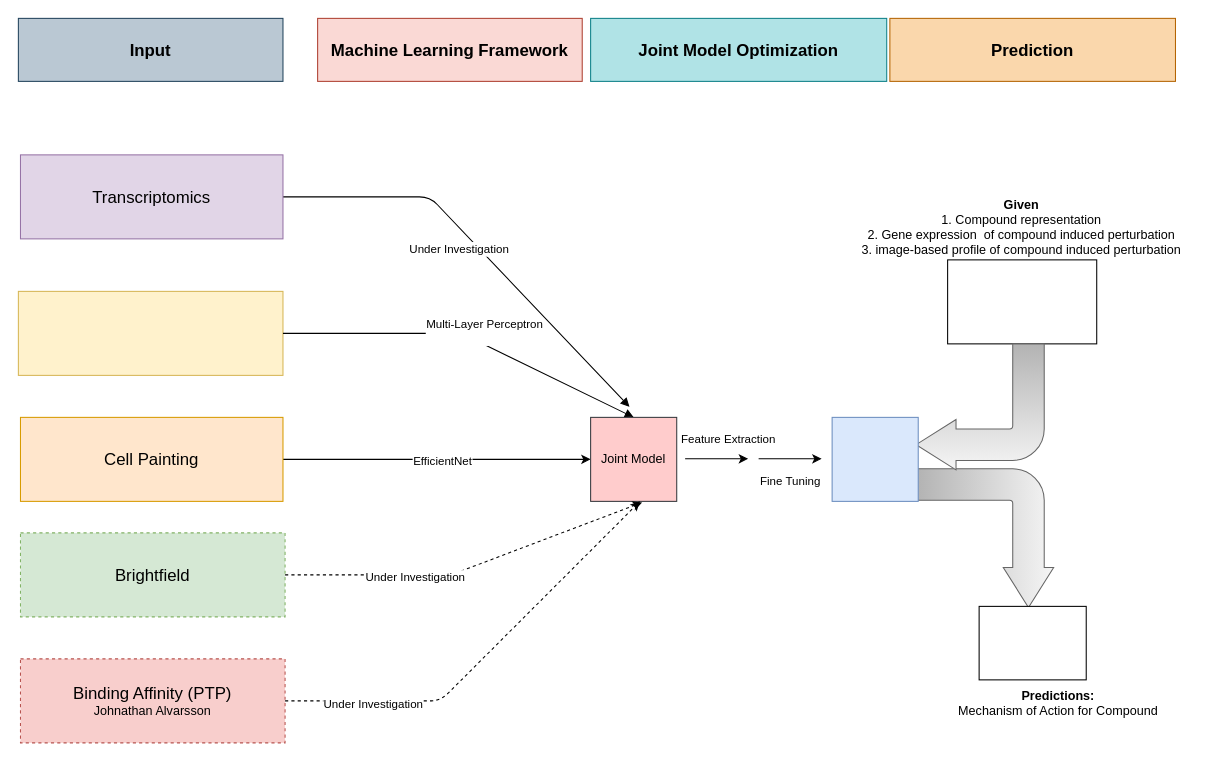
Image size: 1213x761. Some labels were removed from this diagram. Each missing label, with the centre of its shape:
Chemical Compound: (x=150, y=332)
Final Joint Model: (x=874, y=458)
MoA 1 MoA 2 MoA 3: (x=1032, y=642)
Unknown Compound 1 Unknown Compound 2 Unknown Compound 3: (x=1022, y=301)
